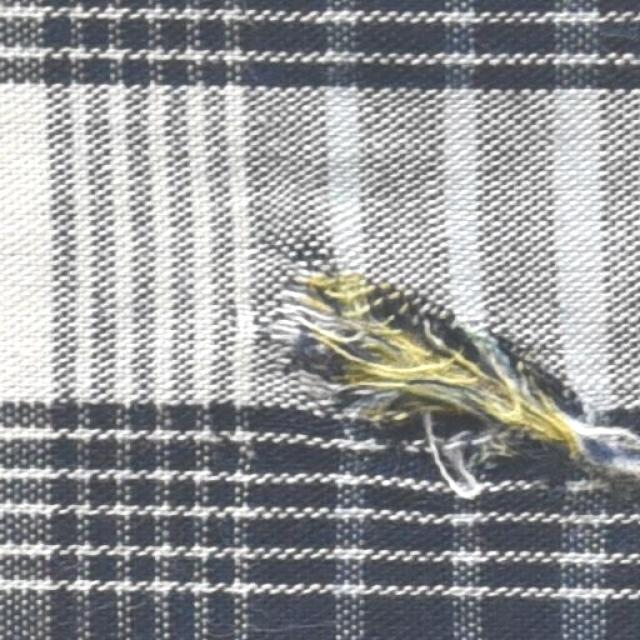Snag: (555, 394, 639, 482), (278, 263, 346, 363)
Stain: (303, 264, 563, 438)
